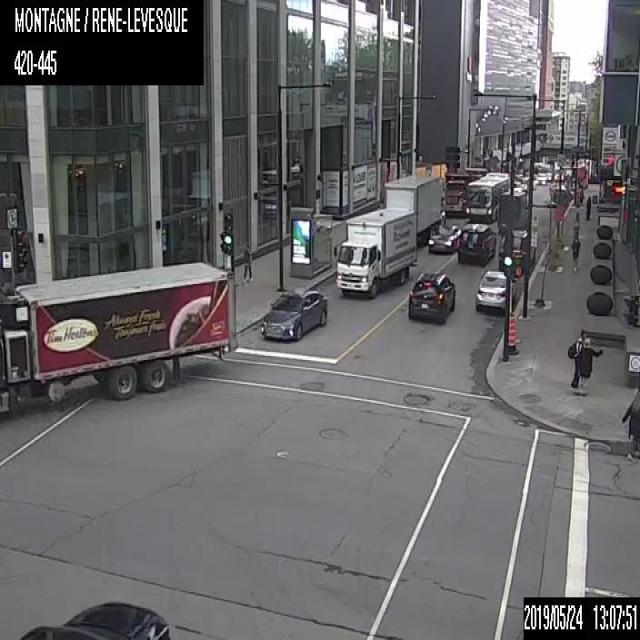bus: (466, 171, 512, 222)
construction: (506, 314, 518, 354)
pedestrian: (577, 337, 605, 393), (566, 328, 590, 388), (619, 387, 639, 452), (240, 242, 252, 278), (571, 230, 580, 272), (584, 193, 591, 219)
vehicle: (0, 257, 231, 415), (336, 206, 418, 298), (17, 597, 169, 639), (382, 173, 441, 247), (260, 284, 327, 340), (406, 270, 456, 322), (442, 166, 488, 217), (471, 269, 516, 312), (457, 220, 494, 267), (498, 228, 536, 272), (499, 191, 527, 232), (428, 222, 460, 255), (511, 179, 522, 192), (535, 172, 546, 183), (521, 176, 528, 191), (531, 174, 537, 189)
